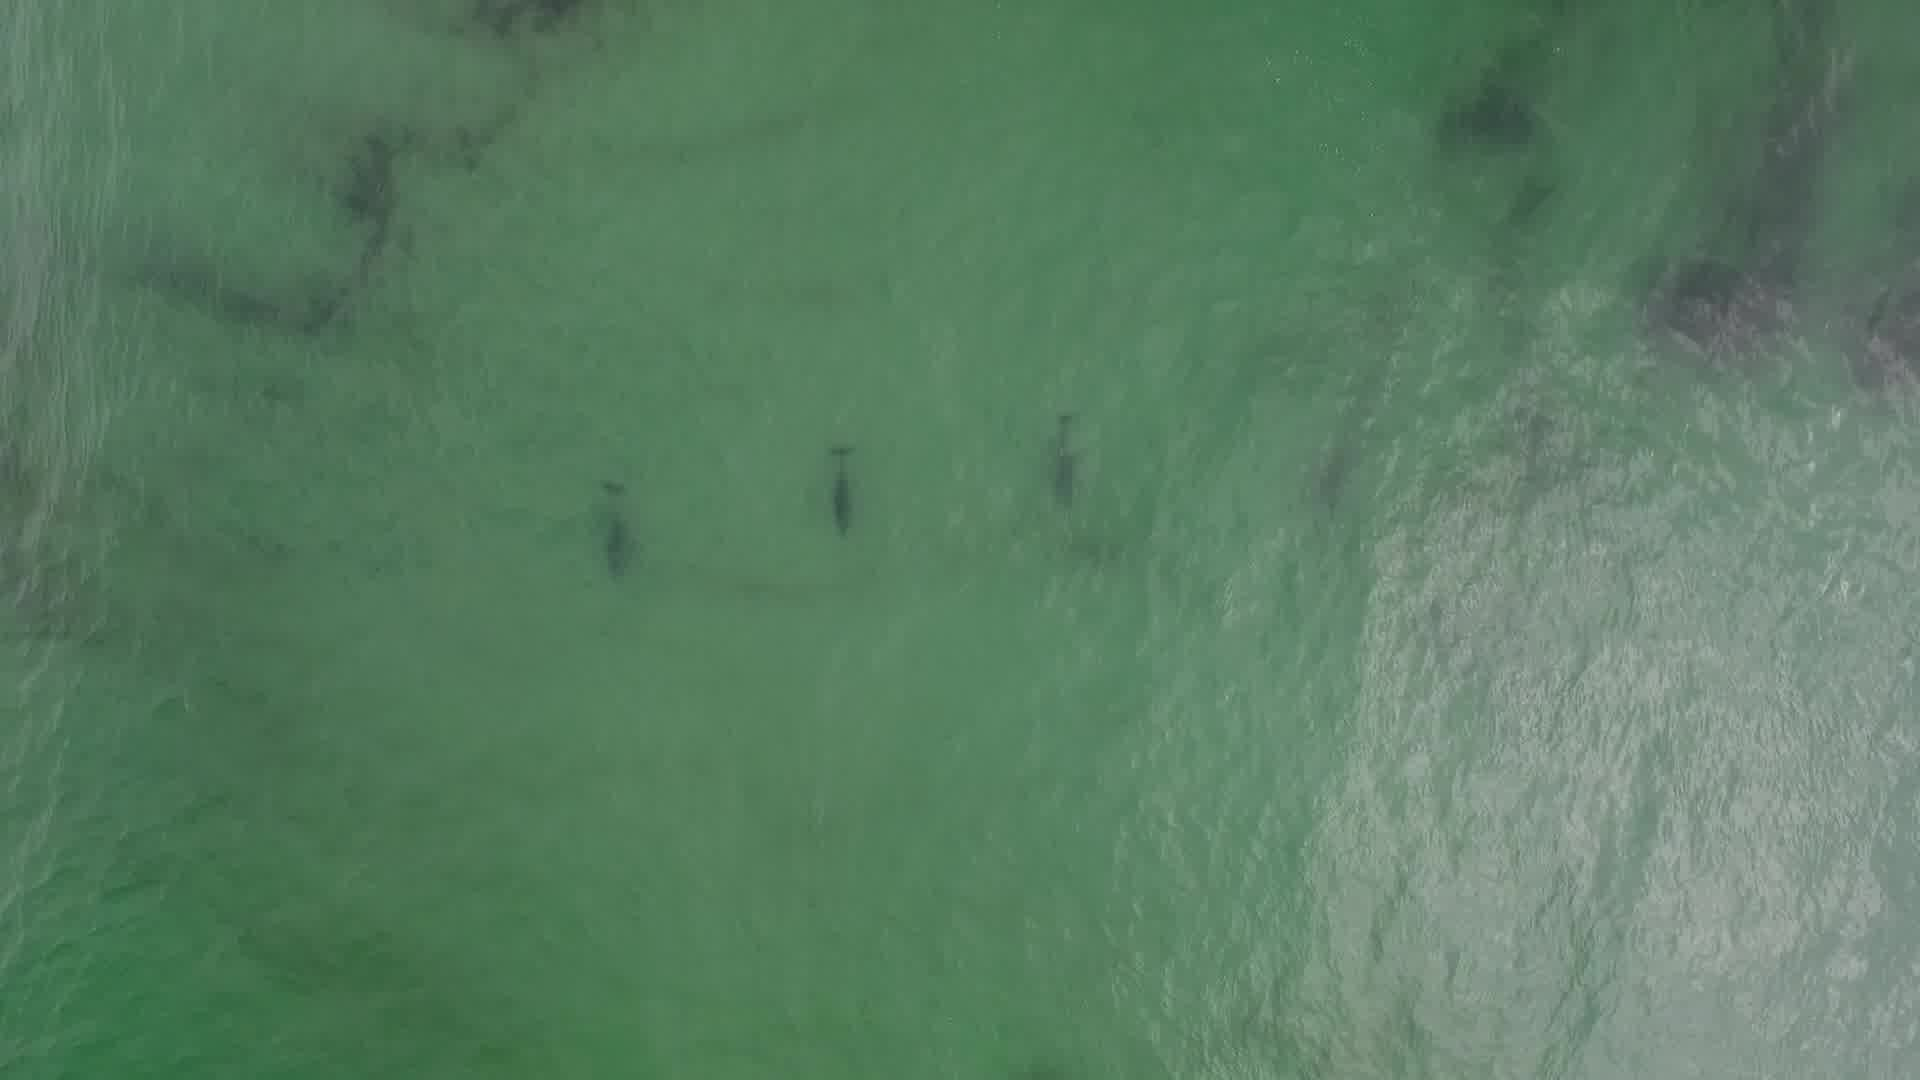dolphin: (1023, 405, 1102, 538), (810, 425, 880, 567), (574, 463, 651, 591)
